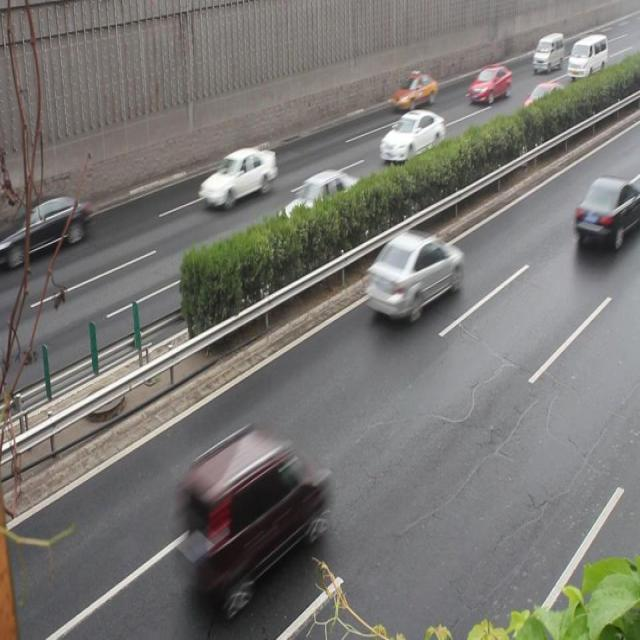car: (176, 429, 320, 586), (364, 227, 461, 319), (276, 170, 363, 237), (571, 175, 640, 248), (14, 192, 88, 258), (196, 146, 276, 206), (378, 108, 444, 165), (518, 80, 566, 126), (466, 65, 511, 106), (390, 72, 436, 111)
